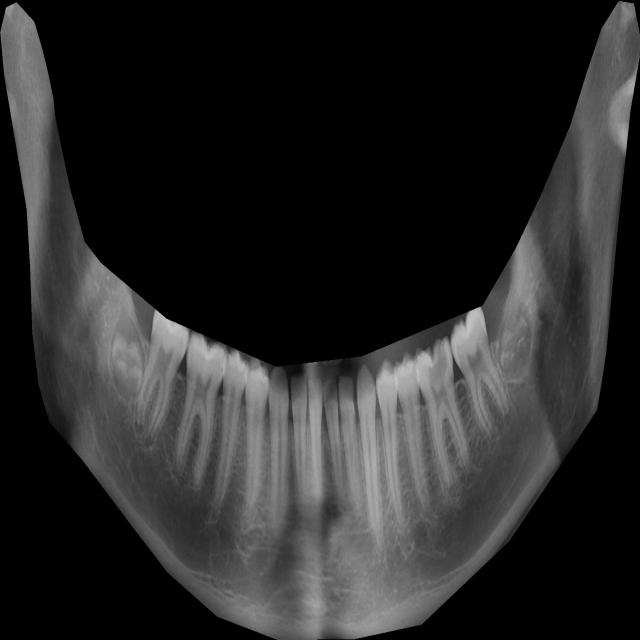mandibula: (0, 1, 640, 640)
